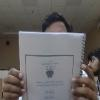notebook: (17, 30, 86, 99)
